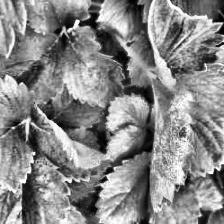Powdery Mildew Leaf: (145, 67, 197, 213), (145, 0, 224, 91), (32, 105, 116, 183), (176, 62, 224, 178)
